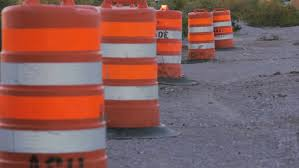barrel: (1, 3, 108, 168), (95, 4, 164, 126), (153, 8, 183, 78), (188, 12, 217, 58), (212, 10, 234, 46)
